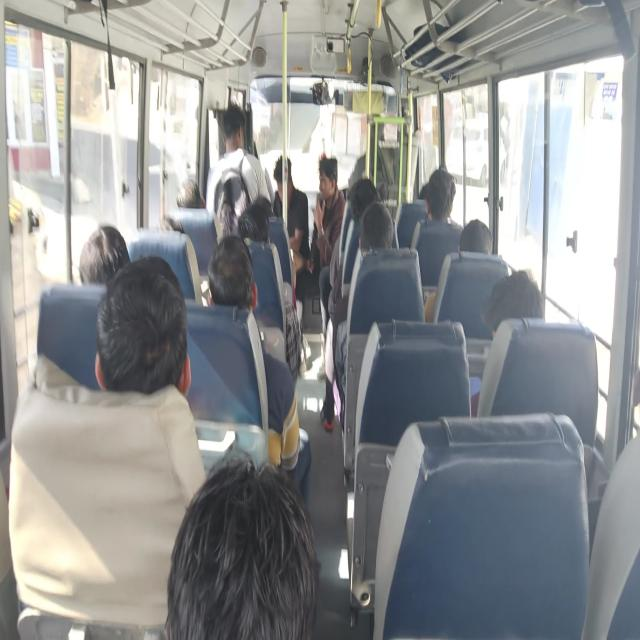person: (164, 455, 319, 637), (95, 257, 189, 399), (426, 211, 492, 329), (414, 168, 464, 288), (273, 155, 311, 305), (482, 269, 544, 333), (207, 234, 255, 309), (78, 224, 130, 287), (359, 199, 395, 252), (239, 200, 273, 244), (348, 176, 380, 221), (459, 218, 492, 255), (222, 102, 246, 147), (176, 178, 206, 210), (318, 156, 337, 183), (274, 154, 292, 182), (164, 216, 185, 233), (376, 184, 391, 202), (417, 183, 429, 202)
